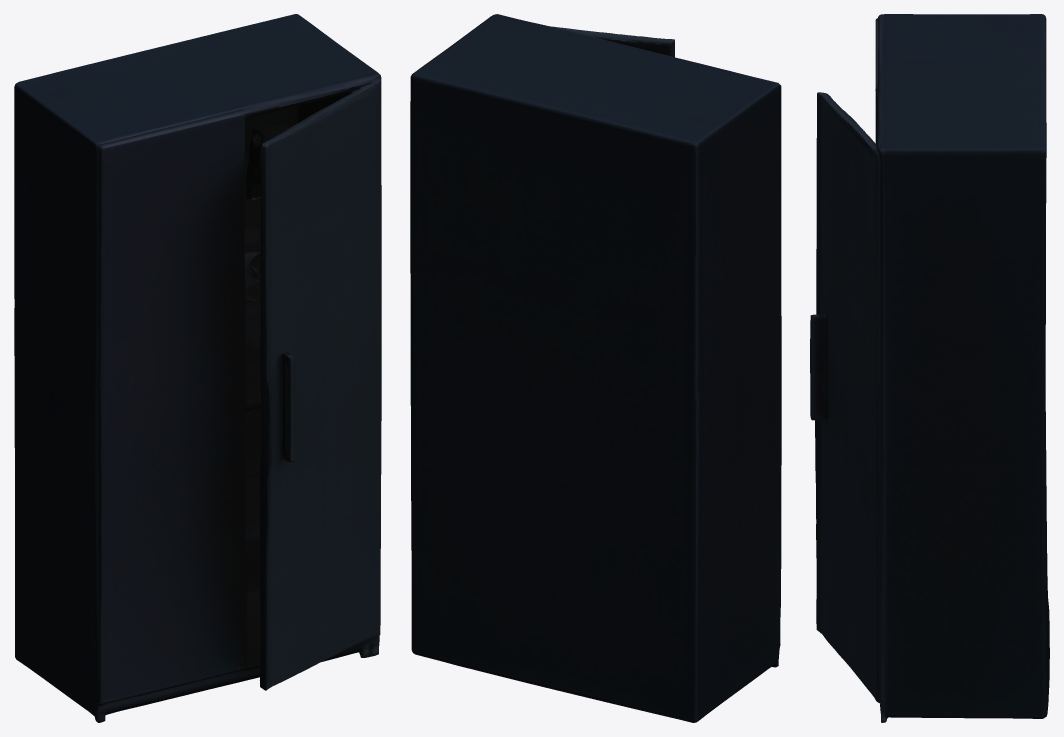
Rendered from armario-3d-2.glb.
3 renders of one model, left to right at view 1: azimuth 30°, elevation 25°; view 2: azimuth 150°, elevation 25°; view 3: azimuth 270°, elevation 25°, orthographic.
Parts seen in each view (by area): view 1: world; view 2: world; view 3: world.
Part boxes in pixels (<box>): world: <box>14,14,381,722</box>; world: <box>410,14,781,722</box>; world: <box>810,14,1049,722</box>.
Size of the model in its own units: 0.518 by 0.9989 by 0.3775.
1 material, 1 textured.
